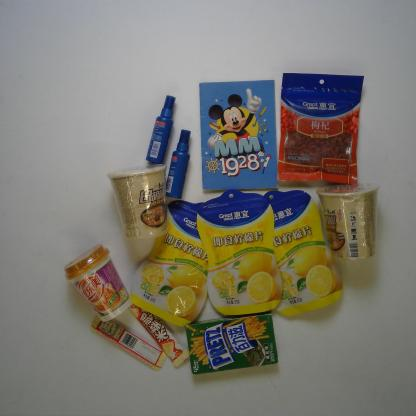Chocolate: (89, 313, 168, 371), (128, 302, 190, 369)
Dessert: (185, 310, 279, 375)
Dried Fruit: (275, 70, 368, 189), (259, 186, 342, 317), (197, 189, 283, 315), (131, 199, 211, 326)
Instant Drink: (66, 244, 130, 323)
Instant Noodles: (315, 180, 378, 260), (108, 162, 167, 238)
Personal Hygiene: (143, 93, 176, 164), (165, 130, 192, 198)
Stationery: (196, 77, 280, 192)
